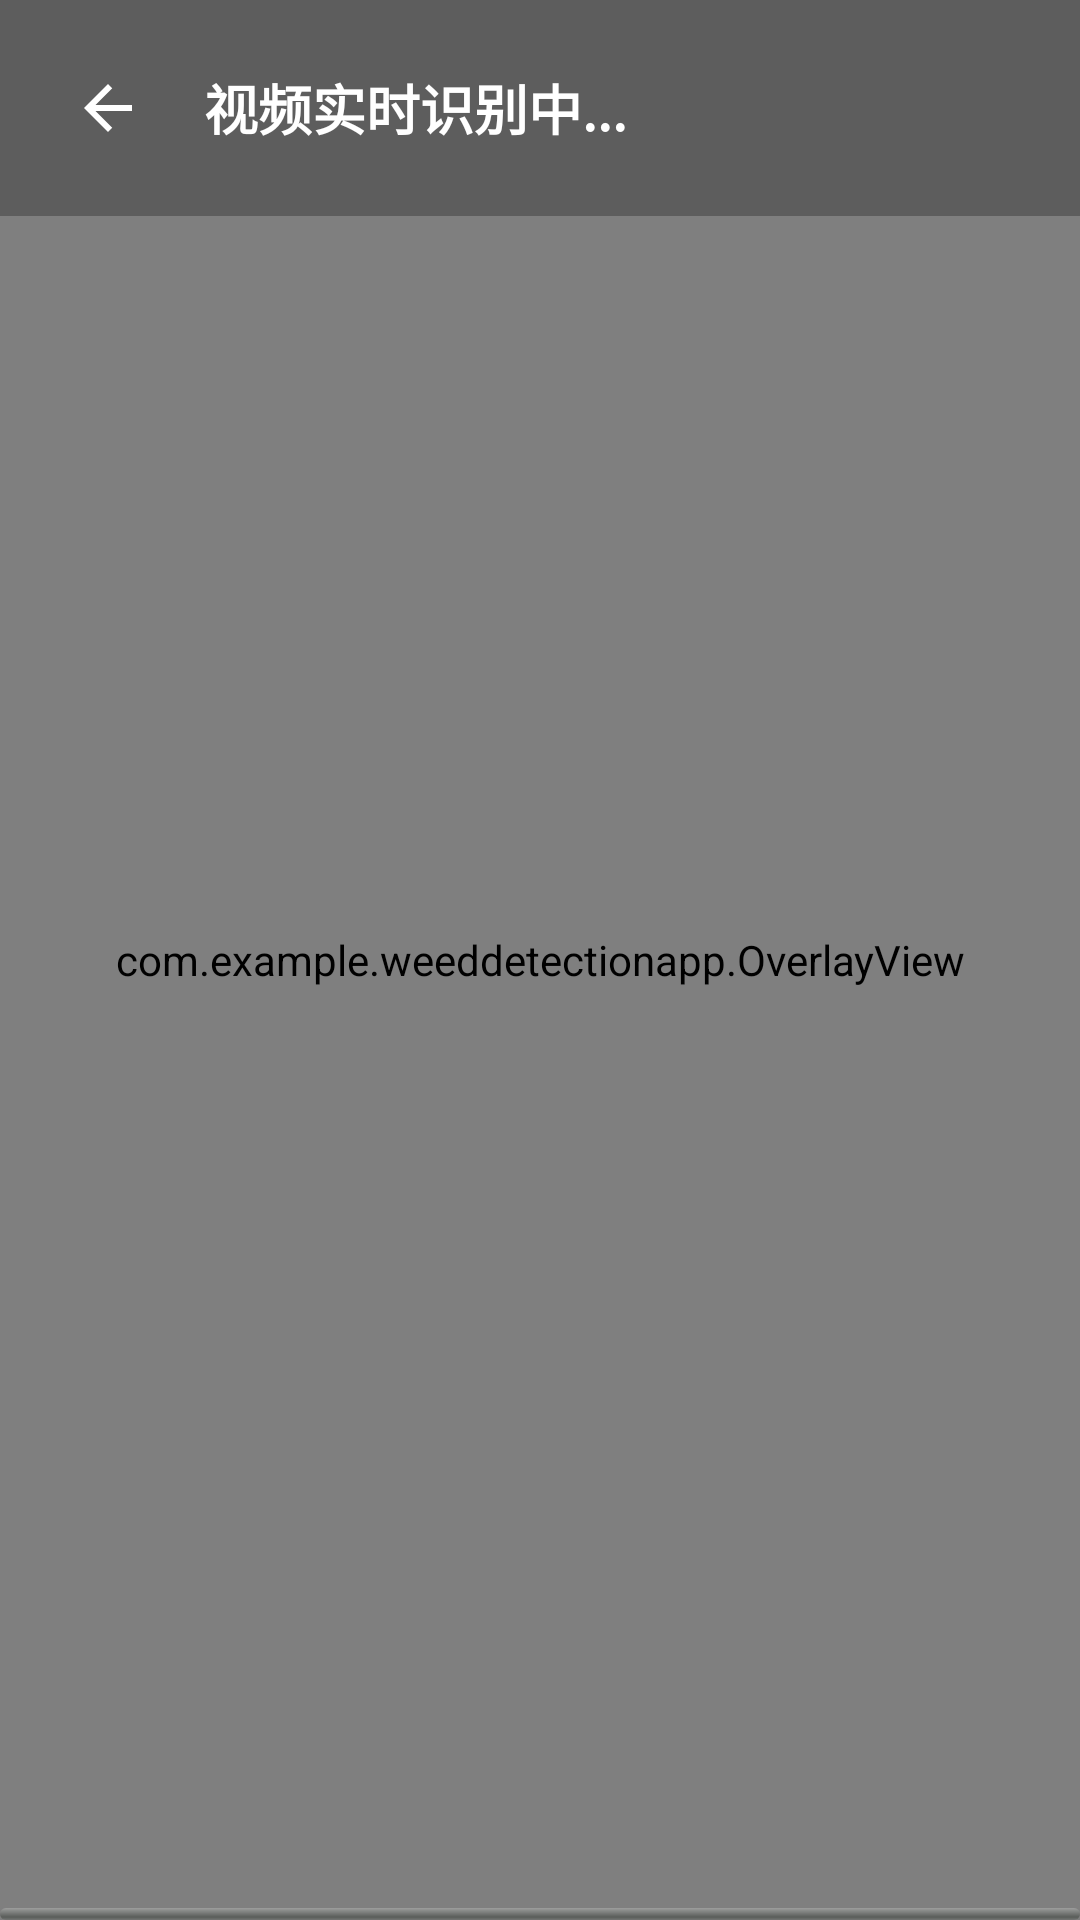

Icon click points for this 1080×1920 phone screenshot, format (x,y):
arrow back: (108,108)
